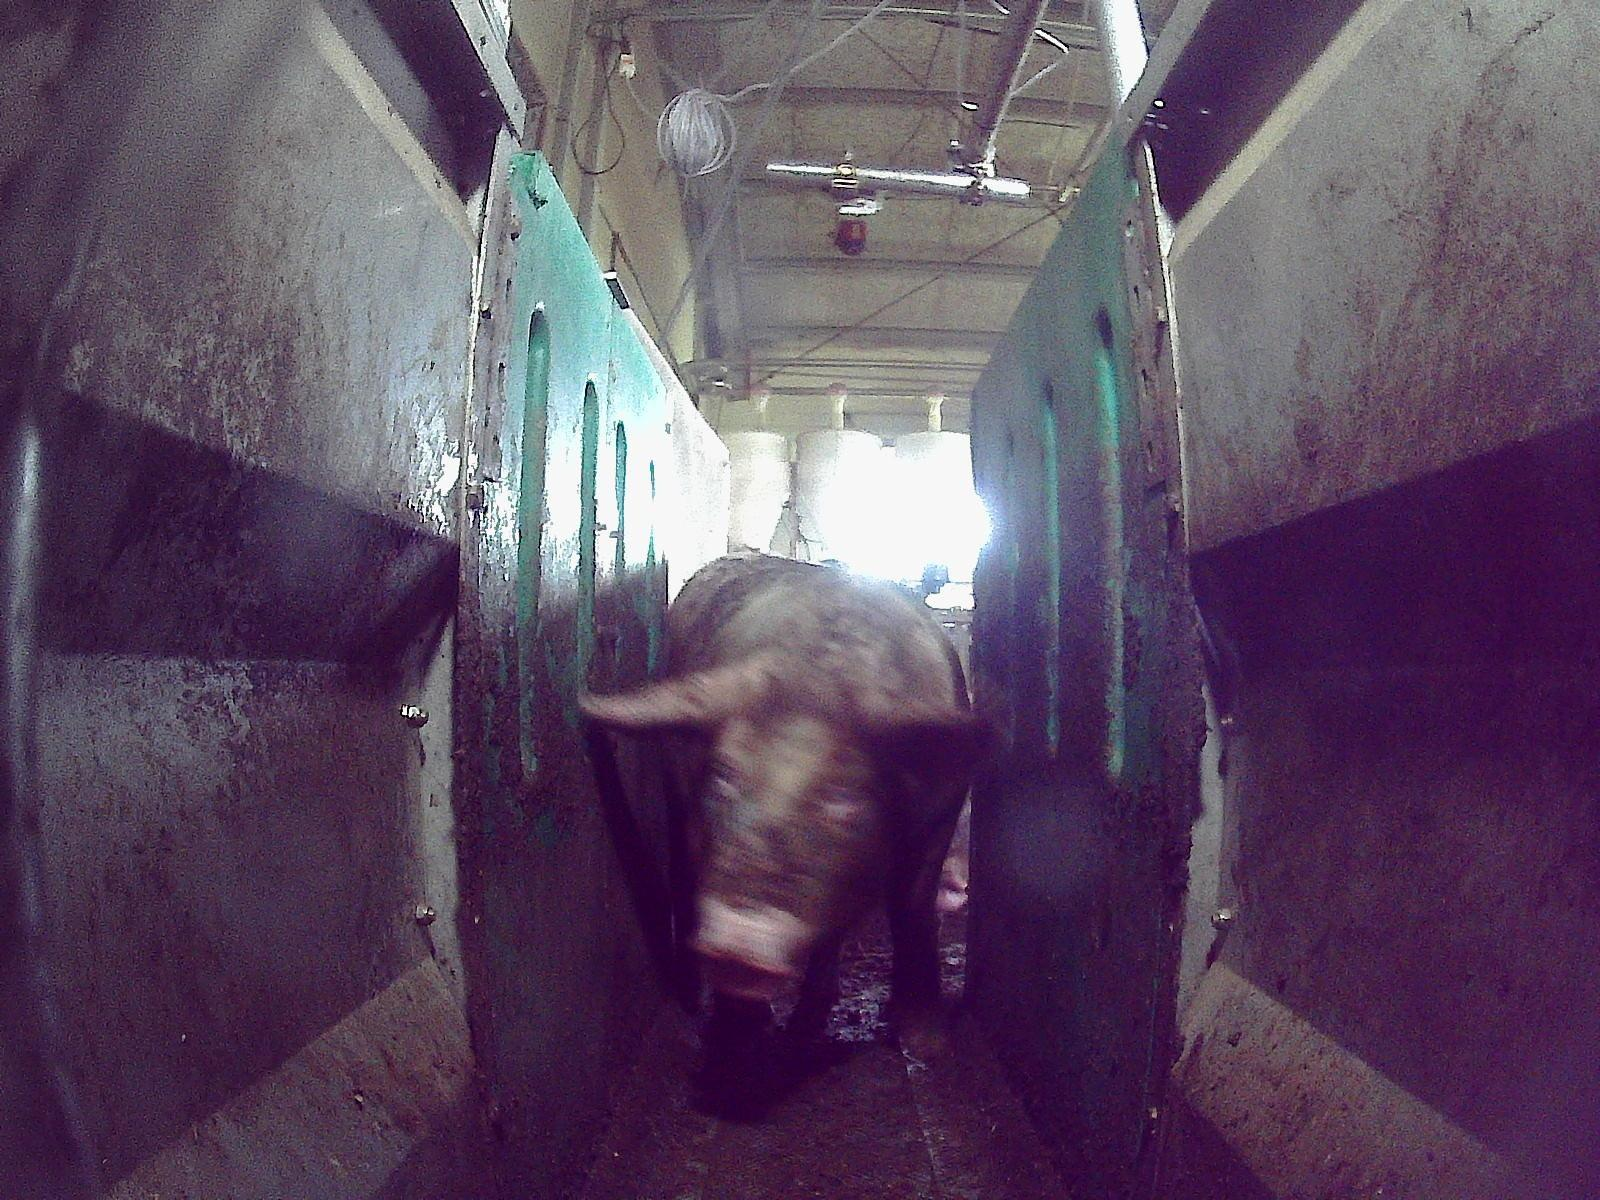Face: (685, 646, 902, 998)
